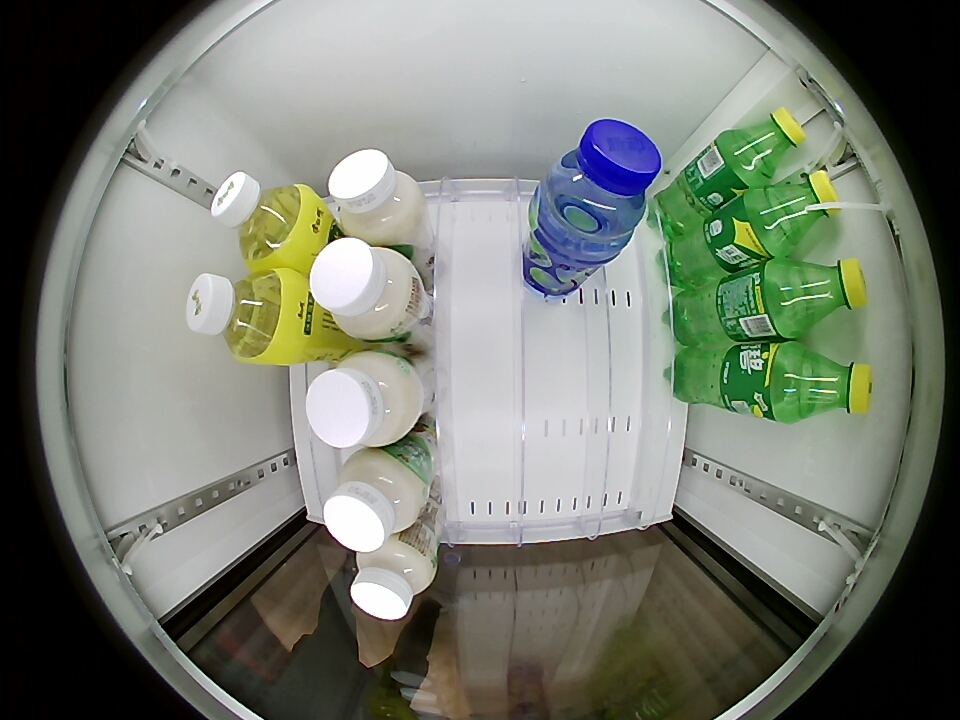bingtangxueli: (186, 268, 305, 364), (210, 172, 319, 269)
maidong: (542, 119, 663, 242)
xuebi-b: (759, 170, 841, 248), (788, 346, 873, 420), (786, 257, 866, 329), (730, 107, 807, 179)
yousuanru: (306, 347, 421, 450), (309, 236, 420, 342), (323, 448, 428, 553), (328, 149, 424, 246), (348, 536, 437, 621)
